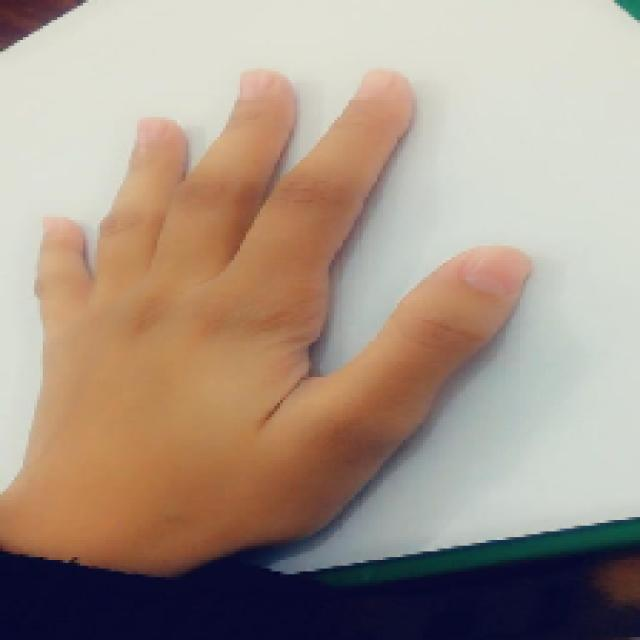Nail: (464, 246, 532, 299), (240, 69, 271, 100), (355, 70, 387, 99), (138, 116, 168, 139), (41, 216, 50, 235)
